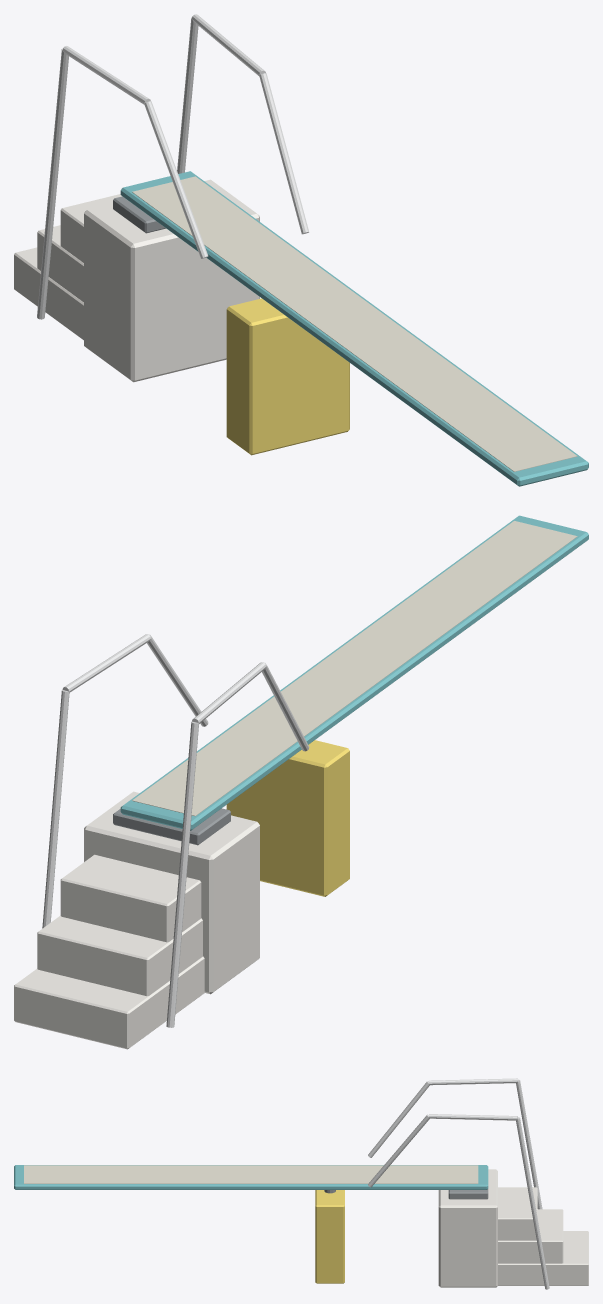
File: board_1m.glb
3 views of the same model, one above another, from view 1: azimuth 30°, elevation 25°; view 2: azimuth 150°, elevation 25°; view 3: azimuth 270°, elevation 25° (orthographic). The views are drawn at different scales.
Parts seen in each view (by area): view 1: board_1m_coping, board_1m_grip, board_1m_yellowp, board_1m_chrome, board_1m_board, board_1m_steel; view 2: board_1m_coping, board_1m_grip, board_1m_yellowp, board_1m_chrome, board_1m_board, board_1m_steel; view 3: board_1m_coping, board_1m_grip, board_1m_board, board_1m_chrome, board_1m_yellowp, board_1m_steel.
Boxes of the visible parts, x1,y1,x2,y2 form: board_1m_coping: (14,179,259,382); board_1m_grip: (132,176,577,471); board_1m_yellowp: (226,298,349,455); board_1m_chrome: (37,14,308,319); board_1m_board: (120,171,588,486); board_1m_steel: (113,196,165,233); board_1m_coping: (14,791,259,1049); board_1m_grip: (132,521,577,816); board_1m_yellowp: (226,740,349,896); board_1m_chrome: (42,634,309,1027); board_1m_board: (120,515,588,830); board_1m_steel: (113,808,230,845); board_1m_coping: (438,1169,588,1287); board_1m_grip: (24,1165,478,1183); board_1m_board: (14,1165,488,1189); board_1m_chrome: (368,1078,549,1289); board_1m_yellowp: (315,1190,344,1283); board_1m_steel: (324,1189,488,1199).
Bounding box in the file's own units: 0.948 × 1.93 × 5.82.
